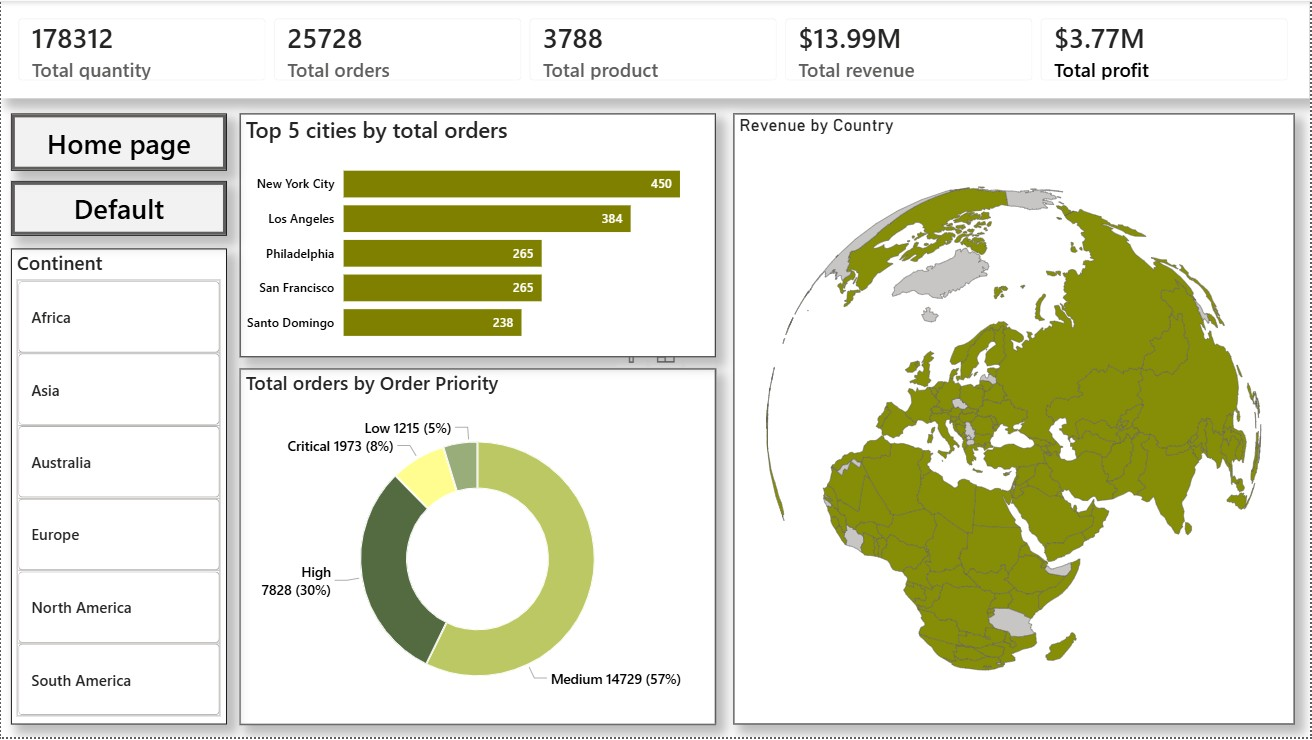

The dashboard page shown, as its layout file describes it:
{"tool":"powerbi","page":{"name":"Regional Order","canvas":[1280,720],"ordinal":2},"visuals":[{"type":"donutChart","title":"Total orders by Order Priority","fields":{"Category":["sales.Order Priority"],"Y":["dim category.total orders"]},"box":[233.6,359.5,465.9,348.5],"z":0},{"type":"cardVisual","fields":{"Data":["Sum(sales.Quantity)","Count(sales.Order ID)","Count(dim product.Product ID)","Sum(sales.revenue)","Sum(sales.profit)"]},"box":[0,0,1280.3,95.4],"z":1000},{"type":"clusteredBarChart","title":"Top 5 cities by total orders","fields":{"Category":["dim region.City"],"Y":["dim category.total orders"]},"box":[233.6,110.1,465.9,238.5],"z":2000},{"type":"advancedSlicerVisual","fields":{"Values":["sales.Continent"]},"box":[9.8,242.1,211.6,465.9],"z":3000},{"type":"actionButton","box":[9.8,110.1,211.6,56.3],"z":4000},{"type":"actionButton","box":[9.8,176.1,211.6,53.8],"z":5000},{"type":"textbox","box":[904.9,321.6,44,48.9],"z":6000},{"type":"shapeMap","title":"Revenue by Country","fields":{"Category":["sales.Country"]},"box":[716.6,110.1,549.1,598],"z":6001}]}

Visuals, with their boxes in screenshot pixels (x1, y1, x2, y2), scaled from the page's 1280x720 canvas onto the 1312x740 screenshot:
"Total orders by Order Priority" donutChart: locate(239, 369, 717, 728)
cardVisual - Sum(sales.Quantity) x Count(sales.Order ID): locate(0, 0, 1311, 98)
"Top 5 cities by total orders" clusteredBarChart: locate(239, 113, 717, 358)
advancedSlicerVisual - sales.Continent: locate(10, 249, 227, 728)
actionButton: locate(10, 113, 227, 171)
actionButton: locate(10, 181, 227, 236)
textbox: locate(928, 331, 973, 381)
"Revenue by Country" shapeMap: locate(735, 113, 1297, 728)
